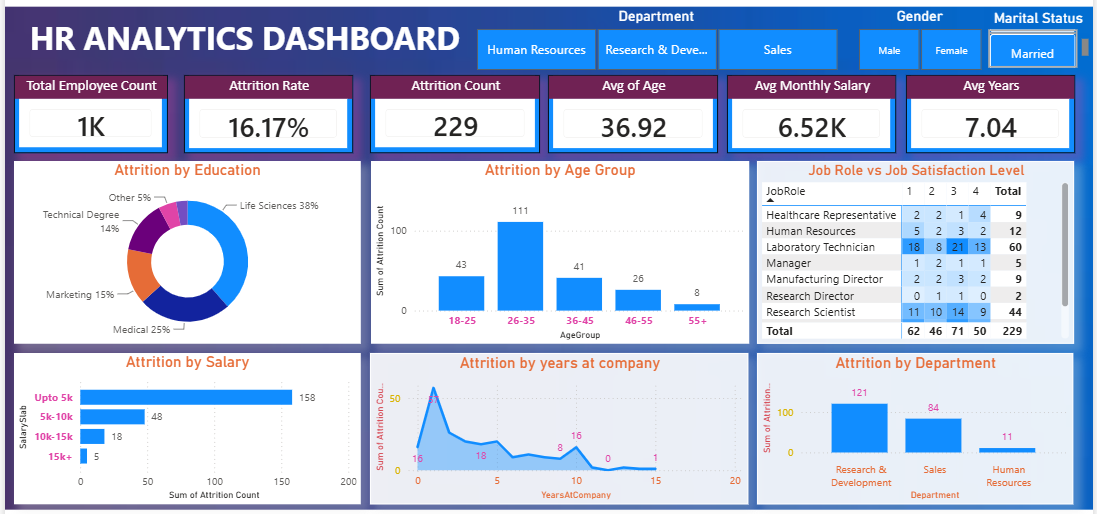

The dashboard page shown, as its layout file describes it:
{"tool":"powerbi","page":{"name":"Page 1","canvas":[1280,720],"ordinal":0},"visuals":[{"type":"cardVisual","title":"Total Employee Count","fields":{"Data":["Sum(HR_Analytics.EmployeeCount)"]},"box":[10.5,142.7,180.7,91.6],"z":0},{"type":"cardVisual","title":"Attrition Rate","fields":{"Data":["HR_Analytics.Attrition Rate"]},"box":[210.2,142.6,198.7,92.2],"z":1000},{"type":"cardVisual","title":"Attrition Count","fields":{"Data":["Sum(HR_Analytics.Attrition Count)"]},"box":[429.4,142.7,200.3,91.6],"z":2000},{"type":"cardVisual","title":"Avg of Age","fields":{"Data":["Avg(HR_Analytics.Age)"]},"box":[639.4,142.6,200.2,92.2],"z":3000},{"type":"cardVisual","title":"Avg Monthly Salary","fields":{"Data":["Avg(HR_Analytics.MonthlyIncome)"]},"box":[849.6,142.6,198.7,92.2],"z":4000},{"type":"cardVisual","title":"Avg Years","fields":{"Data":["Avg(HR_Analytics.YearsAtCompany)"]},"box":[1059.8,142.6,198.7,92.2],"z":5000},{"type":"donutChart","title":"Attrition by Education","fields":{"Category":["HR_Analytics.EducationField"],"Y":["Sum(HR_Analytics.Attrition Count)"]},"box":[10.5,243.5,408.4,214.7],"z":6000},{"type":"clusteredColumnChart","title":"Attrition by Age Group","fields":{"Category":["HR_Analytics.AgeGroup"],"Y":["Sum(HR_Analytics.Attrition Count)"]},"box":[430,243.8,445,215],"z":7000},{"type":"clusteredBarChart","title":"Attrition by Salary","fields":{"Category":["HR_Analytics.SalarySlab"],"Y":["Sum(HR_Analytics.Attrition Count)"]},"box":[10.5,470,408.4,178],"z":8000},{"type":"pivotTable","title":"Job Role vs Job Satisfaction Level","fields":{"Columns":["HR_Analytics.JobSatisfaction"],"Rows":["HR_Analytics.JobRole"],"Values":["Sum(HR_Analytics.Attrition Count)"]},"box":[884.9,243.5,373.1,214.7],"z":9000},{"type":"areaChart","title":"Attrition by years at company","fields":{"Category":["HR_Analytics.YearsAtCompany"],"Y":["Sum(HR_Analytics.Attrition Count)"]},"box":[429.4,470,445.1,178],"z":11000},{"type":"clusteredColumnChart","title":"Attrition by Department","fields":{"Category":["HR_Analytics.Department"],"Y":["Sum(HR_Analytics.Attrition Count)"]},"box":[884.9,470,371.8,178],"z":12000},{"type":"textbox","box":[12.4,68.8,538.2,67.4],"z":13000},{"type":"slicer","title":"Department","fields":{"Values":["HR_Analytics.Department"]},"box":[529.9,61.9,473.8,80.6],"z":14000},{"type":"slicer","title":"Gender","fields":{"Values":["HR_Analytics.Gender"]},"box":[979.2,61.9,194.4,80.6],"z":15000},{"type":"advancedSlicerVisual","title":"Marital Status","fields":{"Values":["HR_Analytics.MaritalStatus"]},"box":[1152,64.8,128.2,74.9],"z":15001}]}

Visuals, with their boxes on the page's 1280x720 design canvas (x1, y1, x2, y2). These are canvas units, not pixel positions in the 1097x514 screenshot, which may show the page scaled, cropped or inside an application window:
"Total Employee Count" cardVisual: 10:143:191:234
"Attrition Rate" cardVisual: 210:143:409:235
"Attrition Count" cardVisual: 429:143:630:234
"Avg of Age" cardVisual: 639:143:840:235
"Avg Monthly Salary" cardVisual: 850:143:1048:235
"Avg Years" cardVisual: 1060:143:1258:235
"Attrition by Education" donutChart: 10:244:419:458
"Attrition by Age Group" clusteredColumnChart: 430:244:875:459
"Attrition by Salary" clusteredBarChart: 10:470:419:648
"Job Role vs Job Satisfaction Level" pivotTable: 885:244:1258:458
"Attrition by years at company" areaChart: 429:470:874:648
"Attrition by Department" clusteredColumnChart: 885:470:1257:648
textbox: 12:69:551:136
"Department" slicer: 530:62:1004:142
"Gender" slicer: 979:62:1174:142
"Marital Status" advancedSlicerVisual: 1152:65:1280:140
